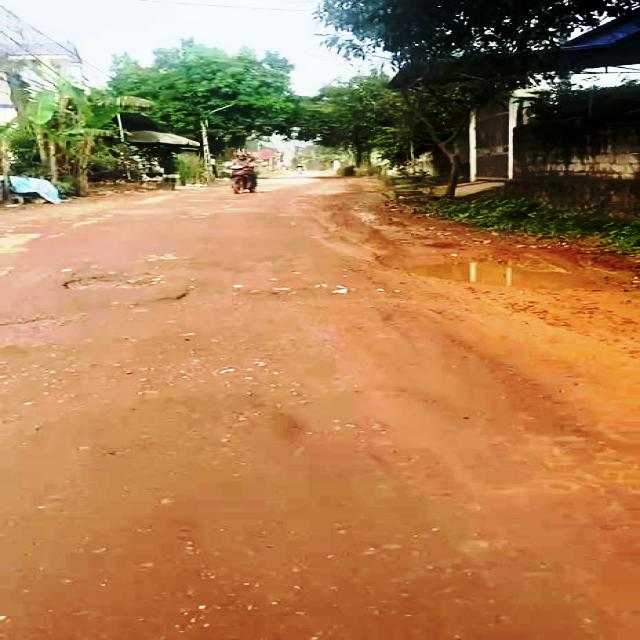pothole: (388, 256, 632, 291), (58, 274, 170, 294)
